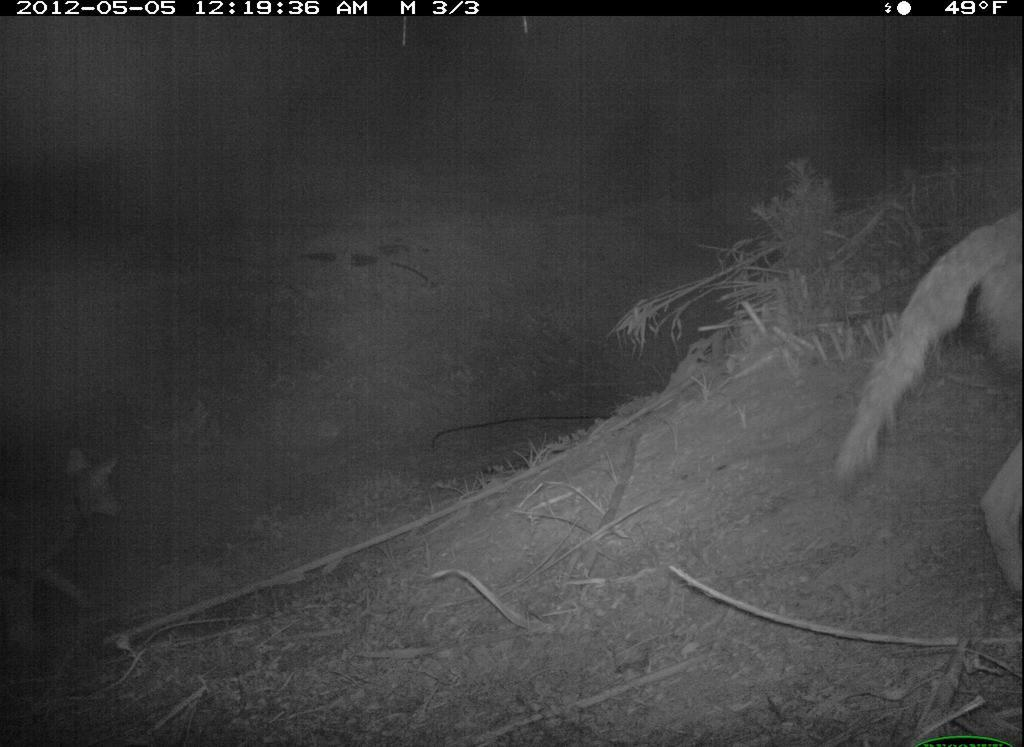coyote: (825, 199, 1021, 615)
